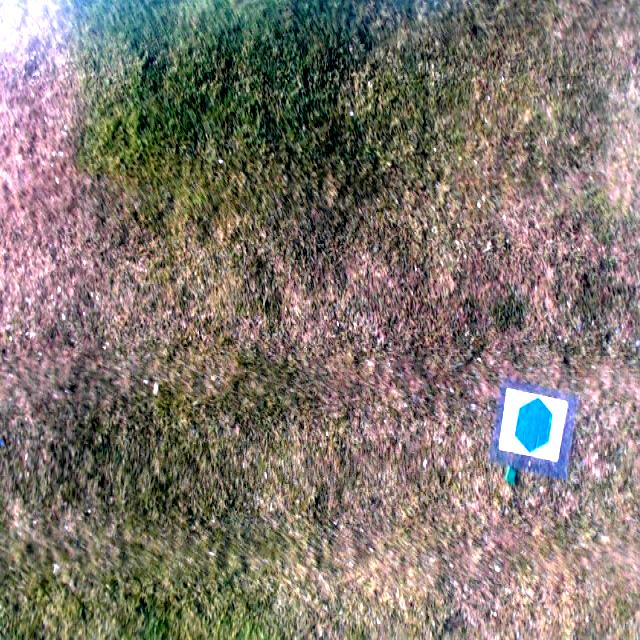blue_hexagon: (515, 396, 552, 455)
